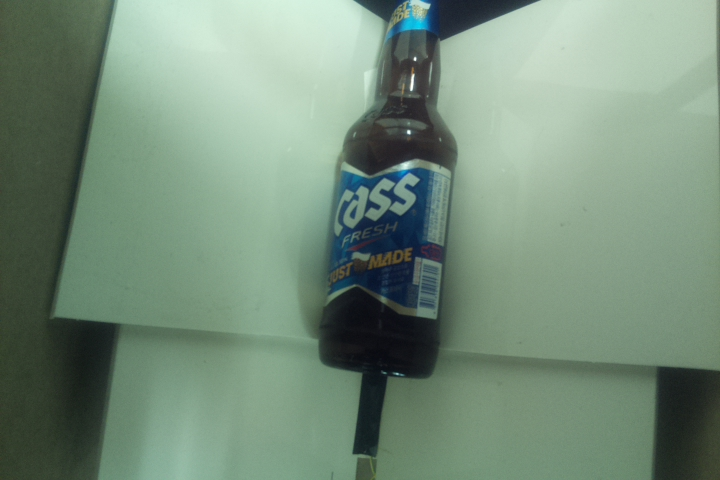makju: (316, 1, 462, 380)
